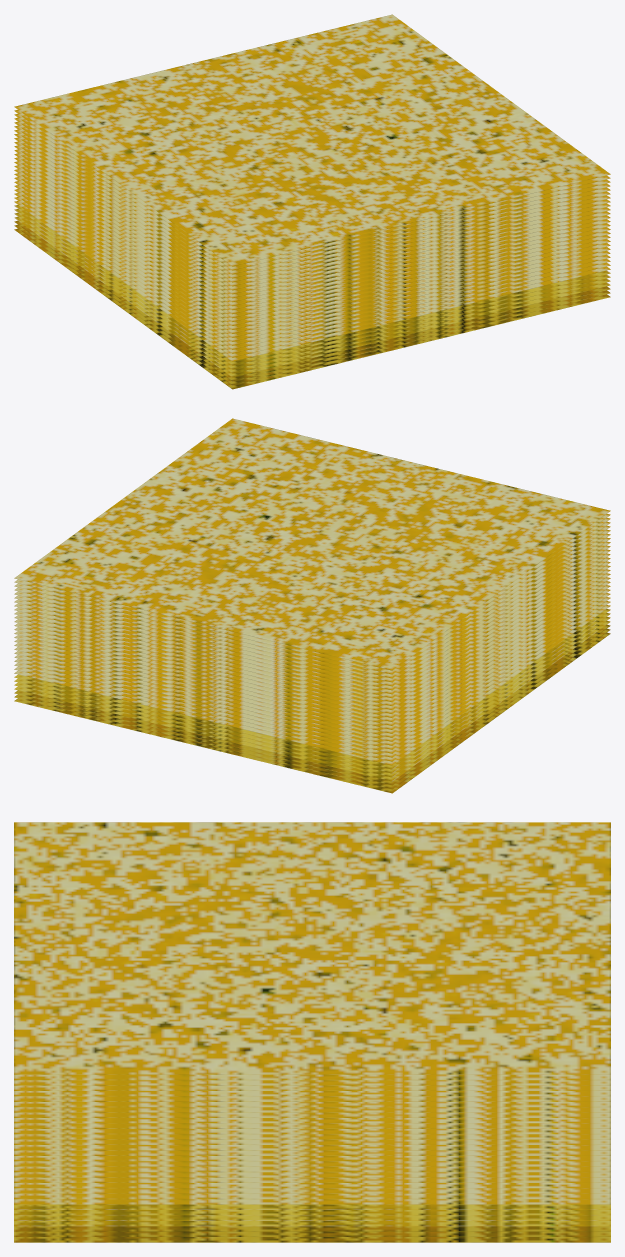
File: riet_1.fbx
3 views of the same model, one above another, from view 1: azimuth 30°, elevation 25°; view 2: azimuth 150°, elevation 25°; view 3: azimuth 270°, elevation 25° (orthographic). The views are drawn at different scales.
Visible parts, largest first — view 1: riet; view 2: riet; view 3: riet.
Boxes of the visible parts, x1,y1,x2,y2 form: riet: [14, 14, 610, 389]; riet: [14, 418, 610, 793]; riet: [14, 822, 610, 1242].
Bounding box in the file's own units: 900 × 279 × 900.
